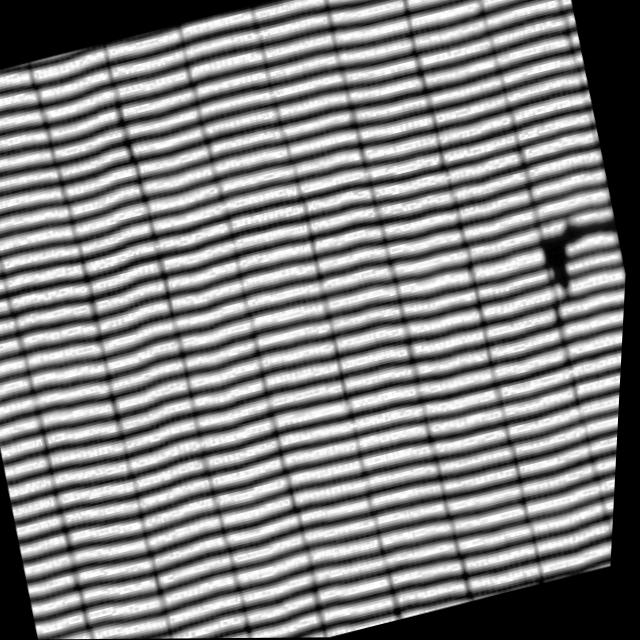Stitch: (508, 182, 632, 312)
